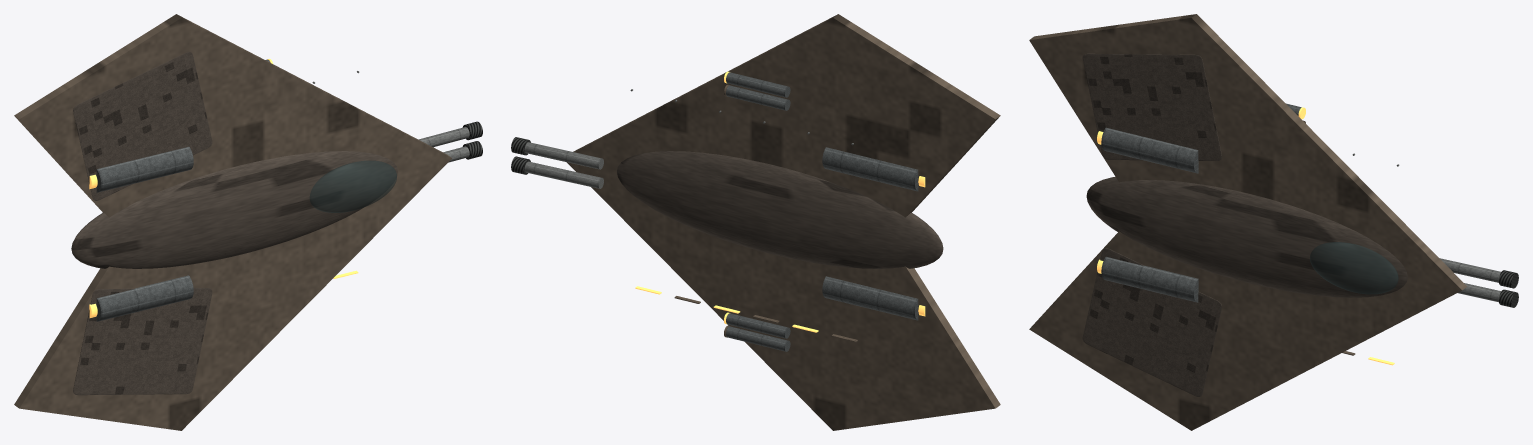
Rendered from d-u29-dominion-stealth-striker-lod0.glb.
The picture shows the model from 3 angles, left to right: view 1: azimuth 30°, elevation 25°; view 2: azimuth 150°, elevation 25°; view 3: azimuth 330°, elevation 25°; orthographic projection.
Visible parts, largest first — view 1: flying_wing_planform, flying_wing_core, flying_wing_elevon_1, flying_wing_elevon_-1, flying_wing_canopy, flying_wing_engine_0, flying_wing_engine_1, flying_wing_gun_barrel_1; view 2: flying_wing_planform, flying_wing_core, flying_wing_engine_1, flying_wing_engine_0, flying_wing_gun_barrel_0, flying_wing_gun_barrel_1, flying_wing_-1_tube_1, flying_wing_1_tube_1, flying_wing_-1_tube_2, flying_wing_1_tube_2; view 3: flying_wing_planform, flying_wing_core, flying_wing_elevon_1, flying_wing_elevon_-1, flying_wing_canopy, flying_wing_engine_0, flying_wing_engine_1, flying_wing_gun_barrel_1.
Part boxes in pixels (<box>): flying_wing_planform: <box>14,14,451,430</box>; flying_wing_core: <box>71,151,397,268</box>; flying_wing_elevon_1: <box>73,52,212,200</box>; flying_wing_elevon_-1: <box>73,288,212,395</box>; flying_wing_canopy: <box>309,160,396,212</box>; flying_wing_engine_0: <box>96,275,193,321</box>; flying_wing_engine_1: <box>96,146,193,192</box>; flying_wing_gun_barrel_1: <box>418,127,469,147</box>; flying_wing_planform: <box>567,14,1000,430</box>; flying_wing_core: <box>617,151,943,268</box>; flying_wing_engine_1: <box>822,147,918,191</box>; flying_wing_engine_0: <box>822,276,918,320</box>; flying_wing_gun_barrel_0: <box>524,161,603,188</box>; flying_wing_gun_barrel_1: <box>524,142,603,169</box>; flying_wing_-1_tube_1: <box>726,326,790,351</box>; flying_wing_1_tube_1: <box>726,85,790,110</box>; flying_wing_-1_tube_2: <box>726,313,790,338</box>; flying_wing_1_tube_2: <box>726,72,790,97</box>; flying_wing_planform: <box>1029,14,1467,430</box>; flying_wing_core: <box>1086,176,1407,297</box>; flying_wing_elevon_1: <box>1082,53,1221,160</box>; flying_wing_elevon_-1: <box>1082,248,1221,396</box>; flying_wing_canopy: <box>1310,242,1398,294</box>; flying_wing_engine_0: <box>1101,256,1198,302</box>; flying_wing_engine_1: <box>1101,127,1198,173</box>; flying_wing_gun_barrel_1: <box>1439,258,1500,282</box>.
Size of what is drawn, in the model's own units: 15.9 by 13.27 by 1.54.
7 materials, 7 textured.
